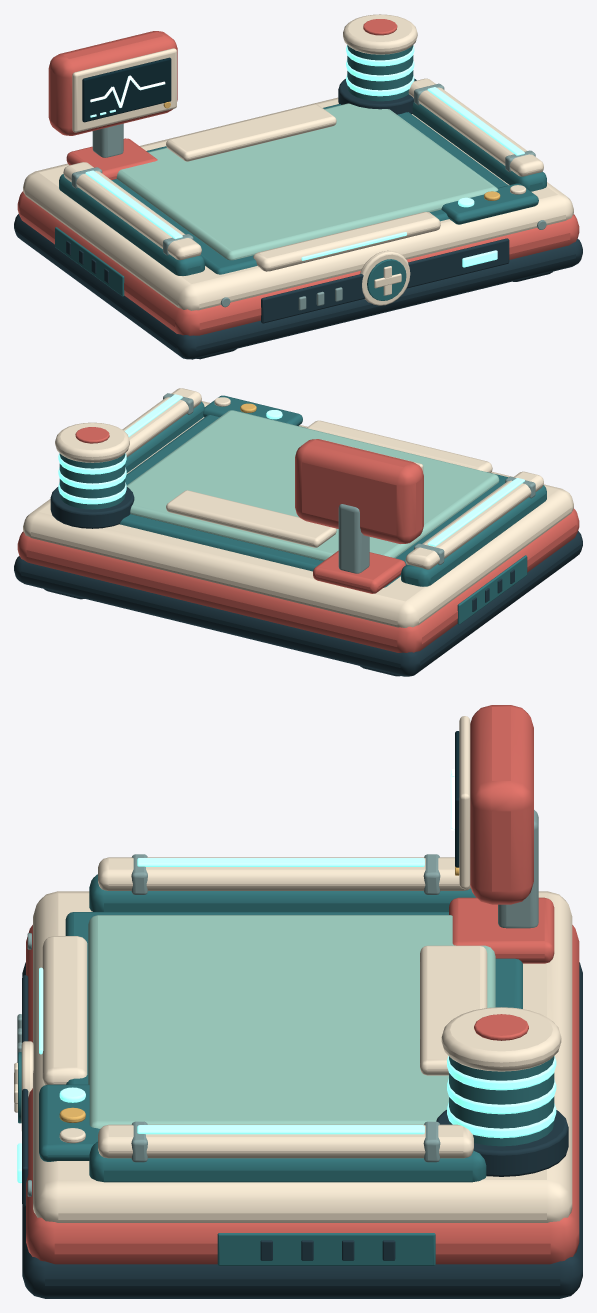
The model's file is healing-machine.glb.
3 renders of one model, top to bottom at view 1: azimuth 30°, elevation 25°; view 2: azimuth 150°, elevation 25°; view 3: azimuth 270°, elevation 25°, orthographic. The views are drawn at different scales.
Visible parts, largest first — view 1: CeramicCream, MintCushion, SlateRubber, CoralEnamel, DeepTeal, StatusGlow, ScreenGlass, BrushedMetal; view 2: CeramicCream, CoralEnamel, MintCushion, SlateRubber, DeepTeal, StatusGlow, BrushedMetal; view 3: CeramicCream, MintCushion, CoralEnamel, DeepTeal, SlateRubber, StatusGlow, BrushedMetal.
Part boxes in pixels (left/top/right/bottom): CeramicCream: left=23, top=14, right=573, bottom=310; MintCushion: left=116, top=103, right=498, bottom=260; SlateRubber: left=14, top=78, right=582, bottom=359; CoralEnamel: left=17, top=19, right=579, bottom=335; DeepTeal: left=55, top=45, right=546, bottom=300; StatusGlow: left=85, top=45, right=524, bottom=267; ScreenGlass: left=82, top=57, right=171, bottom=122; BrushedMetal: left=71, top=83, right=546, bottom=310; CeramicCream: left=23, top=388, right=573, bottom=627; CoralEnamel: left=17, top=427, right=579, bottom=652; MintCushion: left=126, top=410, right=499, bottom=561; SlateRubber: left=14, top=487, right=582, bottom=676; DeepTeal: left=59, top=395, right=546, bottom=624; StatusGlow: left=58, top=394, right=524, bottom=546; BrushedMetal: left=163, top=393, right=535, bottom=573; CeramicCream: left=14, top=716, right=572, bottom=1222; MintCushion: left=88, top=915, right=495, bottom=1128; CoralEnamel: left=26, top=705, right=579, bottom=1264; DeepTeal: left=18, top=874, right=554, bottom=1265; SlateRubber: left=22, top=962, right=582, bottom=1298; StatusGlow: left=17, top=858, right=556, bottom=1183; BrushedMetal: left=17, top=810, right=538, bottom=1196.
Bounding box in the file's own units: 3.15 × 1.48 × 2.38.
